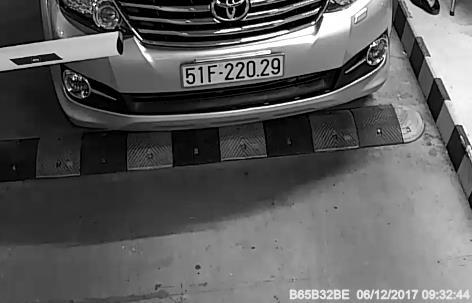License-plate: (172, 50, 298, 94)
